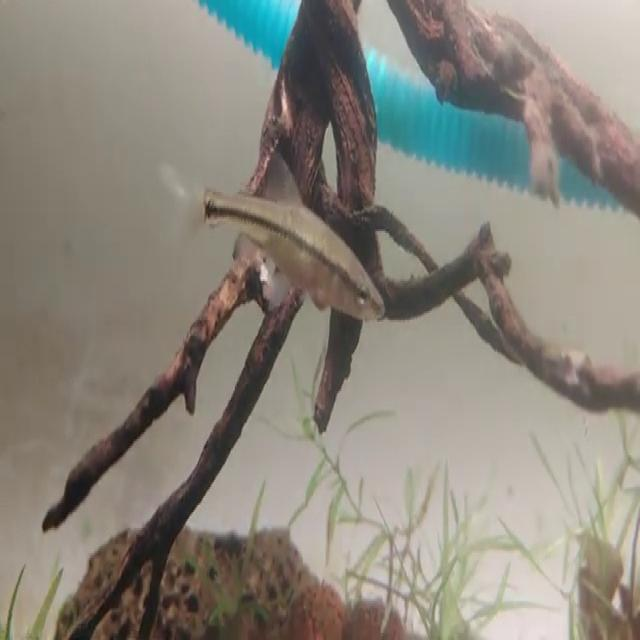Cakil Baligi: (162, 148, 386, 324)
